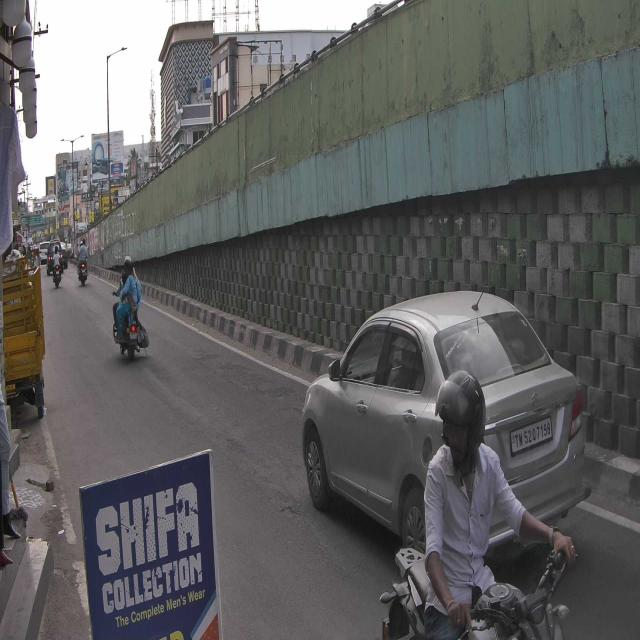single_rider: (387, 375, 576, 640)
